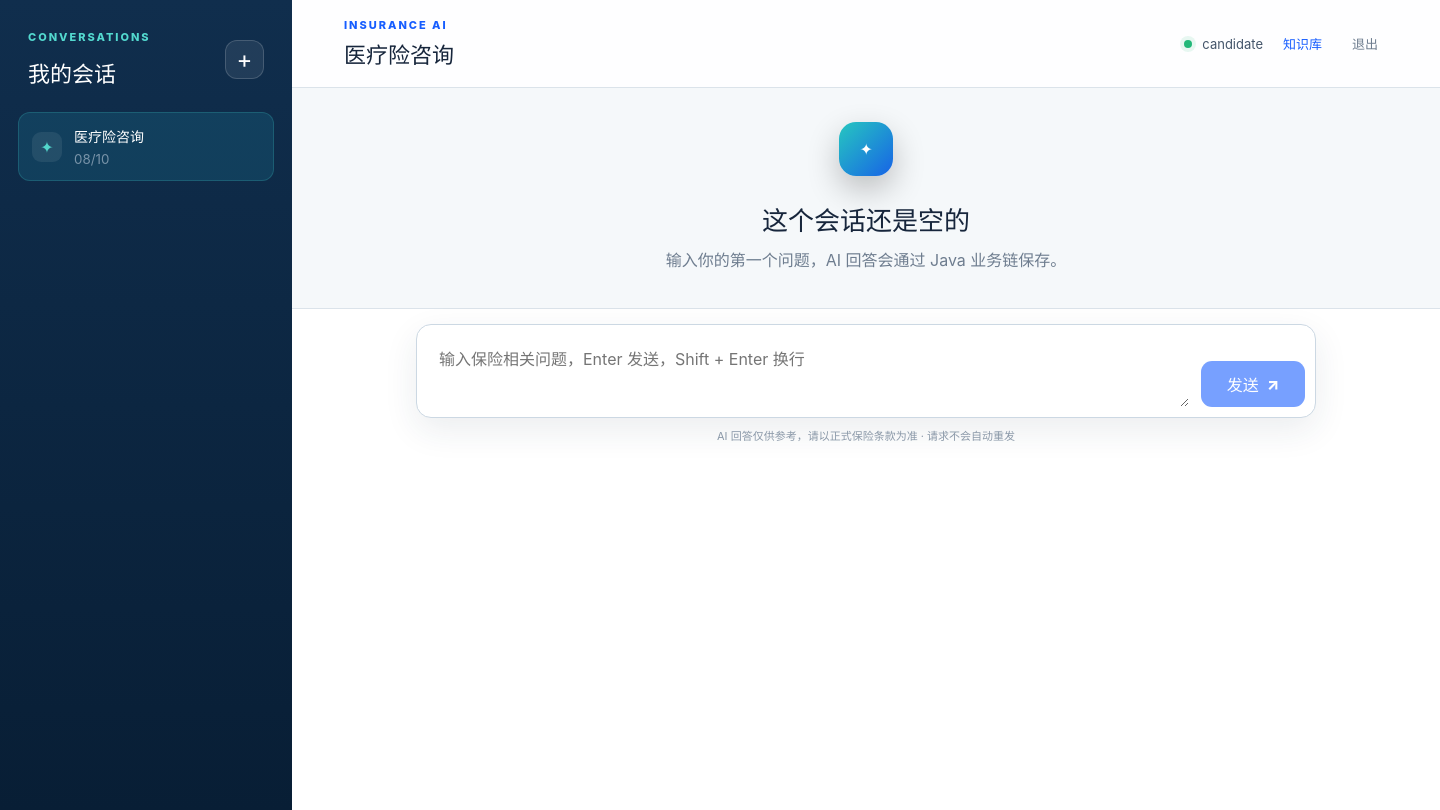
Test: ChatView › shows sources from the latest RAG response
Type "waiting period?" into the text box with placeholder "输入保险相关问题，Enter 发送，Shift + Enter 换行". click: (808, 371)
box: [427,335,1189,407]
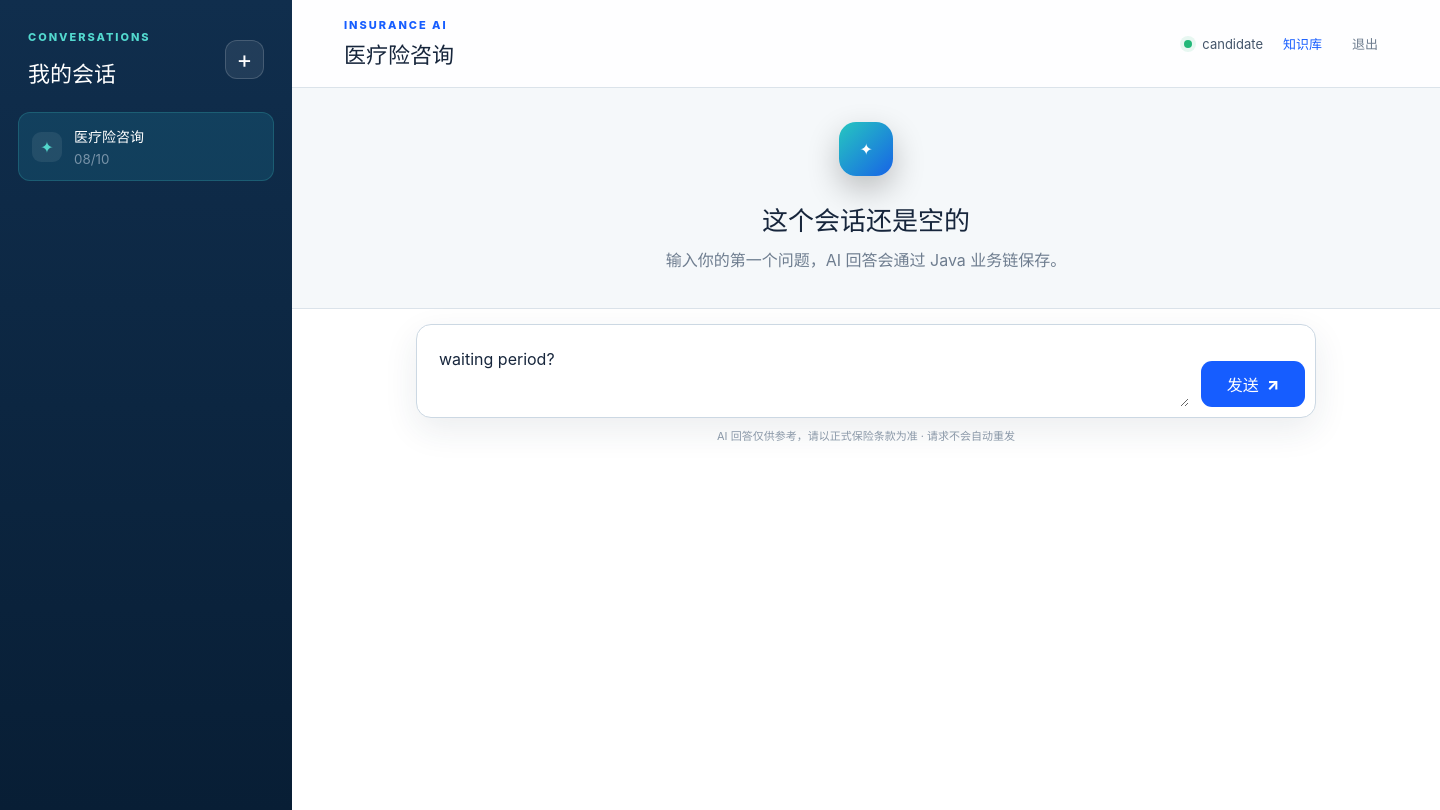
Submit the form with class "chat-composer", box [416,324,1316,418]
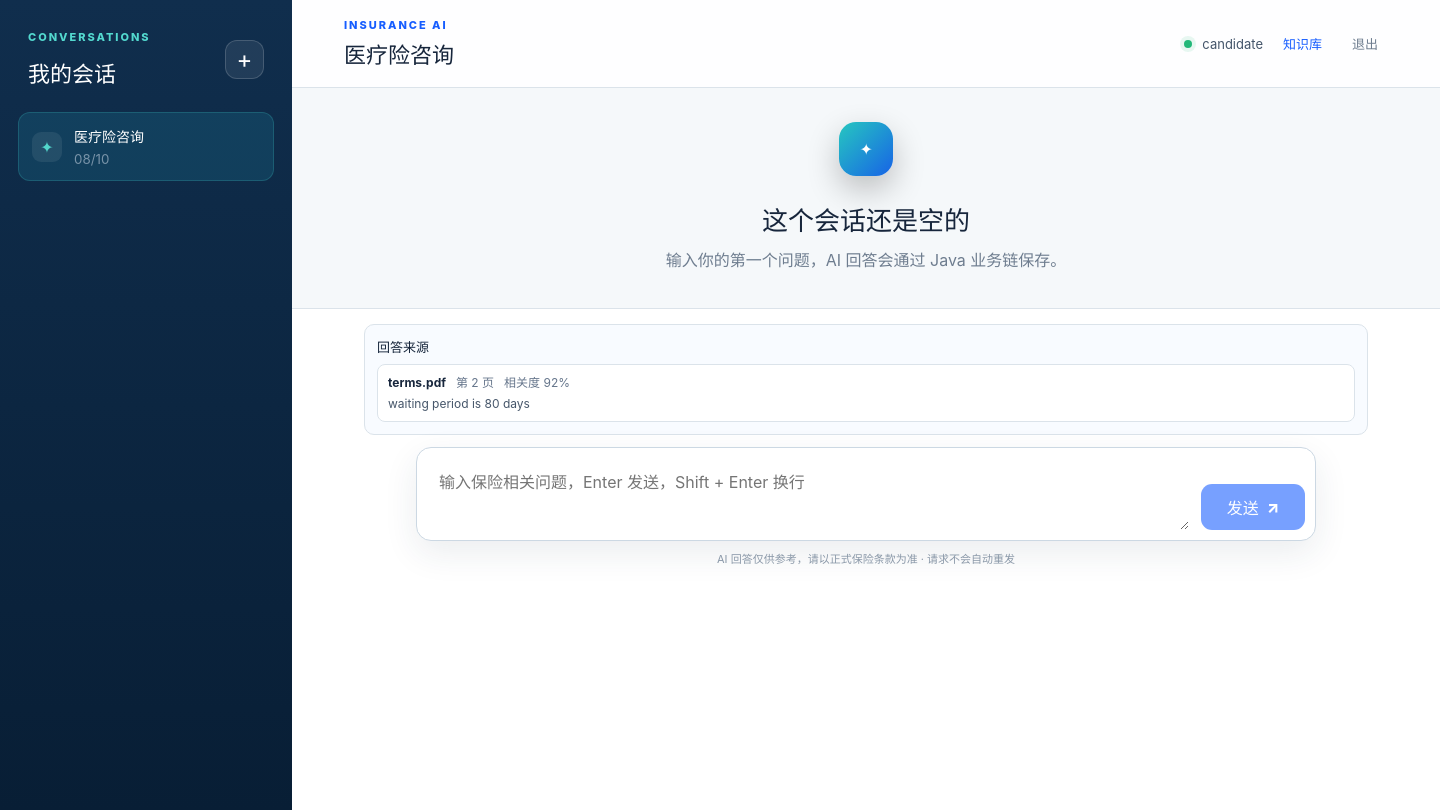
Now the element with class "answer-sources" shows "terms.pdf", box [388,375,446,390]
Now the element with class "answer-sources" shows "2", box [456,375,494,390]
Now the element with class "answer-sources" shows "waiting period is 80 days", box [388,396,530,411]
